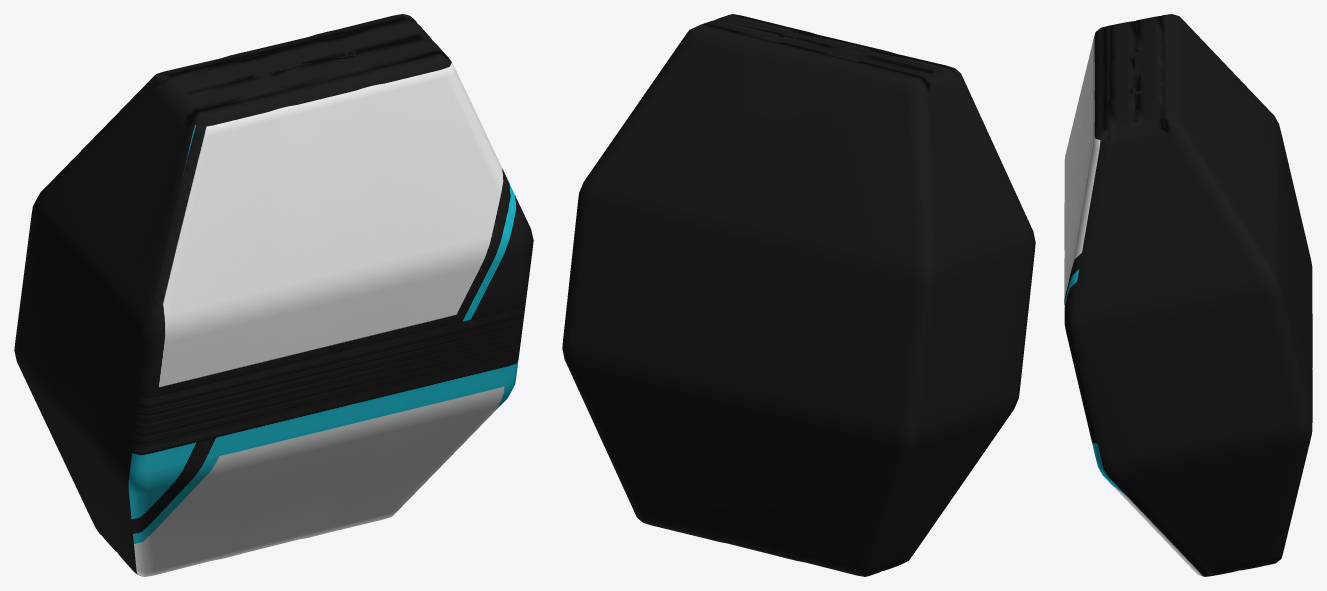
The picture shows the model from 3 angles, left to right: view 1: azimuth 30°, elevation 25°; view 2: azimuth 150°, elevation 25°; view 3: azimuth 270°, elevation 25°; orthographic projection. The views are drawn at different scales.
Parts seen in each view (by area): view 1: Product_D04_s00.001; view 2: Product_D04_s00.001; view 3: Product_D04_s00.001.
Boxes of the visible parts, x1=… form: Product_D04_s00.001: x1=14, y1=14, x2=533, y2=576; Product_D04_s00.001: x1=562, y1=14, x2=1035, y2=576; Product_D04_s00.001: x1=1064, y1=14, x2=1312, y2=576.
Bounding box in the file's own units: 0.075 × 0.0956 × 0.0469.
Materials: 1 (1 with a texture image).
